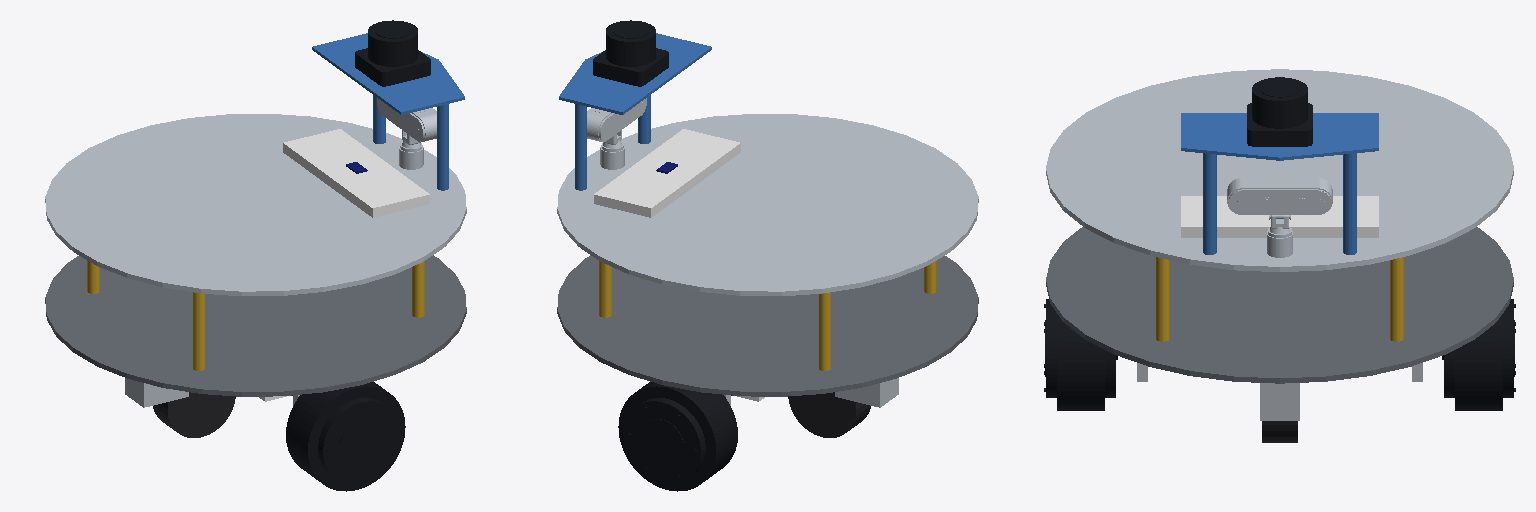
robot.urdf — robot_description:
<?xml version='1.0' encoding='utf-8'?>
<robot name="robot_description">
  <!--Minimal TF for visualization/navigation. Static body and wheels are drawn as base_link geometry; wheel rotation joints are omitted. Sensor and optical frame names/poses are preserved.-->
  <!-- Quy ước: +X trước, +Y trái, +Z lên (REP-103). Đơn vị m / rad.
       Tọa độ trong comment: (x, y, z) theo base_link; [z_fp] = độ cao so với mặt đất (base_footprint).
       base_link nằm cao 0.1135 m so với base_footprint. -->

  <!-- ===== base_footprint: hình chiếu tâm robot xuống mặt đất (z = 0) ===== -->
  <link name="base_footprint" />

  <!-- ===== base_link: tâm mặt dưới tầng đế dưới. Toàn bộ thân, motor, bánh, caster là visual của link này ===== -->
  <link name="base_link">
    <!-- [Tầng dưới] Đế tròn Ø400 dày 5 mm: z 0 → 0.005 [z_fp 0.1135 → 0.1185] -->
    <visual>
      <origin xyz="0 0 0.0025" rpy="0 0 0" />
      <geometry>
        <cylinder radius="0.2" length="0.005" />
      </geometry>
      <material name="chassis_gray">
        <color rgba="0.44 0.46 0.49 1" />
      </material>
    </visual>
    <collision>
      <origin xyz="0 0 0.0025" rpy="0 0 0" />
      <geometry>
        <cylinder radius="0.2" length="0.005" />
      </geometry>
    </collision>
    <!-- [Trụ nối 2 tầng] 4 trụ Ø12 cao 100 mm tại (±0.12, ±0.10), z 0.005 → 0.105 -->
    <!-- Trụ sau-phải (-0.12, -0.10) -->
    <visual>
      <origin xyz="-0.12 -0.1 0.055" rpy="0 0 0" />
      <geometry>
        <cylinder radius="0.006" length="0.1" />
      </geometry>
      <material name="gold">
        <color rgba="0.80 0.65 0.20 1" />
      </material>
    </visual>
    <!-- Trụ sau-trái (-0.12, +0.10) -->
    <visual>
      <origin xyz="-0.12 0.1 0.055" rpy="0 0 0" />
      <geometry>
        <cylinder radius="0.006" length="0.1" />
      </geometry>
      <material name="gold">
        <color rgba="0.80 0.65 0.20 1" />
      </material>
    </visual>
    <!-- Trụ trước-phải (+0.12, -0.10) -->
    <visual>
      <origin xyz="0.12 -0.1 0.055" rpy="0 0 0" />
      <geometry>
        <cylinder radius="0.006" length="0.1" />
      </geometry>
      <material name="gold">
        <color rgba="0.80 0.65 0.20 1" />
      </material>
    </visual>
    <!-- Trụ trước-trái (+0.12, +0.10) -->
    <visual>
      <origin xyz="0.12 0.1 0.055" rpy="0 0 0" />
      <geometry>
        <cylinder radius="0.006" length="0.1" />
      </geometry>
      <material name="gold">
        <color rgba="0.80 0.65 0.20 1" />
      </material>
    </visual>
    <!-- [Tầng trên] Đế tròn Ø400 dày 5 mm: z 0.105 → 0.110 [z_fp 0.2185 → 0.2235] -->
    <visual>
      <origin xyz="0 0 0.1075" rpy="0 0 0" />
      <geometry>
        <cylinder radius="0.2" length="0.005" />
      </geometry>
      <material name="silver">
        <color rgba="0.76 0.79 0.82 1" />
      </material>
    </visual>
    <collision>
      <origin xyz="0 0 0.1075" rpy="0 0 0" />
      <geometry>
        <cylinder radius="0.2" length="0.005" />
      </geometry>
    </collision>
    <!-- [Breadboard] 170×63×10 mm, xoay 90° (cạnh dài theo Y), tâm (0.11, 0, 0.115). IMU gắn trên mặt này -->
    <visual>
      <origin xyz="0.11 0 0.115" rpy="0 0 1.5707963" />
      <geometry>
        <box size="0.17 0.063 0.01" />
      </geometry>
      <material name="white">
        <color rgba="0.94 0.94 0.94 1" />
      </material>
    </visual>
    <!-- [Giá camera] Đáy tại mặt tầng trên (0.17, 0, 0.11), cao 40 mm, đỡ RealSense D435 -->
    <visual>
      <origin xyz="0.17 0 0.11" rpy="0 0 0" />
      <geometry>
        <mesh filename="package://robot_description/meshes/camera_mount_photo.stl" scale="0.001 0.001 0.001" />
      </geometry>
      <material name="silver">
        <color rgba="0.76 0.79 0.82 1" />
      </material>
    </visual>
    <!-- [Tấm LiDAR] 90×170×3 mm, tâm dày z 0.2115 [z_fp 0.325], đỡ RPLIDAR C1 -->
    <visual>
      <origin xyz="0 0 0.2115" rpy="0 0 0" />
      <geometry>
        <mesh filename="package://robot_description/meshes/lidar_plate.stl" scale="0.001 0.001 0.001" />
      </geometry>
      <material name="steel_blue">
        <color rgba="0.28 0.49 0.75 1" />
      </material>
    </visual>
    <!-- [Trụ đỡ tấm LiDAR] 2 trụ Ø12 cao 100 mm tại (0.17, ±0.06), z 0.11 → 0.21 -->
    <!-- Trụ LiDAR phải (0.17, -0.06) -->
    <visual>
      <origin xyz="0.17 -0.06 0.16" rpy="0 0 0" />
      <geometry>
        <cylinder radius="0.006" length="0.1" />
      </geometry>
      <material name="steel_blue">
        <color rgba="0.28 0.49 0.75 1" />
      </material>
    </visual>
    <!-- Trụ LiDAR trái (0.17, +0.06) -->
    <visual>
      <origin xyz="0.17 0.06 0.16" rpy="0 0 0" />
      <geometry>
        <cylinder radius="0.006" length="0.1" />
      </geometry>
      <material name="steel_blue">
        <color rgba="0.28 0.49 0.75 1" />
      </material>
    </visual>

    <!-- ========== BÊN TRÁI (+Y): motor + bánh chủ động trái ========== -->
    <!-- [Motor trái] Khối 110×25×40 mm dưới tầng dưới, tâm (0, 0.10, -0.02) -->
    <visual>
      <origin xyz="0 0.1 -0.02" rpy="0 0 0" />
      <geometry>
        <box size="0.11 0.025 0.04" />
      </geometry>
      <material name="white">
        <color rgba="0.94 0.94 0.94 1" />
      </material>
    </visual>
    <!-- [Tấm gá motor trái] tâm (0, 0.1175, -0.04) -->
    <visual>
      <origin xyz="0 0.1175 -0.04" rpy="0 0 0" />
      <geometry>
        <mesh filename="package://robot_description/meshes/motor_plate.stl" scale="0.001 0.001 0.001" />
      </geometry>
      <material name="silver">
        <color rgba="0.76 0.79 0.82 1" />
      </material>
    </visual>
    <!-- [Bánh chủ động trái] Ø107 rộng 41.5 mm, tâm trục (0, +0.17, -0.06) [z_fp 0.0535 = bán kính bánh] -->
    <visual>
      <origin xyz="0 0.17 -0.06" rpy="0 0 -3.14159261" />
      <geometry>
        <mesh filename="package://robot_description/meshes/drive_wheel.stl" scale="0.001 0.001 0.001" />
      </geometry>
      <material name="dark_black">
        <color rgba="0.13 0.14 0.16 1" />
      </material>
    </visual>
    <collision>
      <origin xyz="0 0.17 -0.06" rpy="1.5707963 0 0" />
      <geometry>
        <cylinder radius="0.0535" length="0.0415" />
      </geometry>
    </collision>

    <!-- ========== BÊN PHẢI (-Y): motor + bánh chủ động phải ========== -->
    <!-- [Motor phải] Khối 110×25×40 mm, tâm (0, -0.10, -0.02) -->
    <visual>
      <origin xyz="0 -0.1 -0.02" rpy="0 0 0" />
      <geometry>
        <box size="0.11 0.025 0.04" />
      </geometry>
      <material name="white">
        <color rgba="0.94 0.94 0.94 1" />
      </material>
    </visual>
    <!-- [Tấm gá motor phải] tâm (0, -0.1175, -0.04) -->
    <visual>
      <origin xyz="0 -0.1175 -0.04" rpy="0 0 0" />
      <geometry>
        <mesh filename="package://robot_description/meshes/motor_plate.stl" scale="0.001 0.001 0.001" />
      </geometry>
      <material name="silver">
        <color rgba="0.76 0.79 0.82 1" />
      </material>
    </visual>
    <!-- [Bánh chủ động phải] Ø107 rộng 41.5 mm, tâm trục (0, -0.17, -0.06) [z_fp 0.0535]. Khoảng cách 2 bánh = 0.34 m -->
    <visual>
      <origin xyz="0 -0.17 -0.06" rpy="0 0 0" />
      <geometry>
        <mesh filename="package://robot_description/meshes/drive_wheel.stl" scale="0.001 0.001 0.001" />
      </geometry>
      <material name="dark_black">
        <color rgba="0.13 0.14 0.16 1" />
      </material>
    </visual>
    <collision>
      <origin xyz="0 -0.17 -0.06" rpy="1.5707963 0 0" />
      <geometry>
        <cylinder radius="0.0535" length="0.0415" />
      </geometry>
    </collision>

    <!-- ========== CASTER TRƯỚC (+X), gắn tại x = +0.12 ========== -->
    <!-- [Caster trước - tấm gá] 55×75×3 mm, (0.12, 0, -0.0015) -->
    <visual>
      <origin xyz="0.12 0 -0.0015" rpy="0 0 0" />
      <geometry>
        <box size="0.055 0.075 0.003" />
      </geometry>
      <material name="silver">
        <color rgba="0.76 0.79 0.82 1" />
      </material>
    </visual>
    <!-- [Caster trước - khớp xoay] (0.12, 0, -0.0085) -->
    <visual>
      <origin xyz="0.12 0 -0.0085" rpy="0 0 0" />
      <geometry>
        <cylinder radius="0.02" length="0.007" />
      </geometry>
      <material name="gold">
        <color rgba="0.80 0.65 0.20 1" />
      </material>
    </visual>
    <!-- [Caster trước - càng] (0.108, 0, -0.0425) -->
    <visual>
      <origin xyz="0.108 0 -0.0425" rpy="0 0 0" />
      <geometry>
        <box size="0.05 0.035 0.048" />
      </geometry>
      <material name="silver">
        <color rgba="0.76 0.79 0.82 1" />
      </material>
    </visual>
    <!-- [Caster trước - bánh] Ø75 rộng 30 mm, tâm (0.068, 0, -0.076) [z_fp 0.0375, chạm đất z_fp 0] -->
    <visual>
      <origin xyz="0.068 0 -0.076" rpy="1.5707963 0 0" />
      <geometry>
        <cylinder radius="0.0375" length="0.03" />
      </geometry>
      <material name="rubber">
        <color rgba="0.20 0.20 0.22 1" />
      </material>
    </visual>
    <collision>
      <origin xyz="0.068 0 -0.076" rpy="1.5707963 0 0" />
      <geometry>
        <cylinder radius="0.0375" length="0.03" />
      </geometry>
    </collision>

    <!-- ========== CASTER SAU (-X), gắn tại x = -0.12 (đối xứng caster trước, xoay 180°) ========== -->
    <!-- [Caster sau - tấm gá] (-0.12, 0, -0.0015) -->
    <visual>
      <origin xyz="-0.12 0 -0.0015" rpy="0 0 -3.14159261" />
      <geometry>
        <box size="0.055 0.075 0.003" />
      </geometry>
      <material name="silver">
        <color rgba="0.76 0.79 0.82 1" />
      </material>
    </visual>
    <!-- [Caster sau - khớp xoay] (-0.12, 0, -0.0085) -->
    <visual>
      <origin xyz="-0.12 0 -0.0085" rpy="0 0 -3.14159261" />
      <geometry>
        <cylinder radius="0.02" length="0.007" />
      </geometry>
      <material name="gold">
        <color rgba="0.80 0.65 0.20 1" />
      </material>
    </visual>
    <!-- [Caster sau - càng] (-0.108, 0, -0.0425) -->
    <visual>
      <origin xyz="-0.108 5.5692248e-10 -0.0425" rpy="0 0 -3.14159261" />
      <geometry>
        <box size="0.05 0.035 0.048" />
      </geometry>
      <material name="silver">
        <color rgba="0.76 0.79 0.82 1" />
      </material>
    </visual>
    <!-- [Caster sau - bánh] Ø75, tâm (-0.068, 0, -0.076) [z_fp 0.0375, chạm đất z_fp 0] -->
    <visual>
      <origin xyz="-0.068 2.41333075e-09 -0.076" rpy="1.5707963 0 -3.14159261" />
      <geometry>
        <cylinder radius="0.0375" length="0.03" />
      </geometry>
      <material name="rubber">
        <color rgba="0.20 0.20 0.22 1" />
      </material>
    </visual>
    <collision>
      <origin xyz="-0.068 2.41333075e-09 -0.076" rpy="1.5707963 0 -3.14159261" />
      <geometry>
        <cylinder radius="0.0375" length="0.03" />
      </geometry>
    </collision>
  </link>

  <!-- ===== TF: base_footprint → base_link, nâng 0.1135 m (chiều cao mặt dưới tầng đế) ===== -->
  <joint name="base_footprint_joint" type="fixed">
    <origin xyz="0 0 0.1135" rpy="0 0 0" />
    <parent link="base_footprint" />
    <child link="base_link" />
  </joint>

  <!-- ===== IMU BNO055: trên breadboard. Frame tại (0.11, 0, 0.1208) theo base_link
       = (0.11, 0, 0.2343) theo base_footprint, không xoay. Chỉ hình board xoay 90° ===== -->
  <link name="imu_link">
    <visual>
      <origin xyz="0 0 0" rpy="0 0 1.5707963" />
      <geometry>
        <box size="0.021 0.012 0.0016" />
      </geometry>
      <material name="imu_blue">
        <color rgba="0.10 0.16 0.46 1" />
      </material>
    </visual>
  </link>
  <joint name="imu_joint" type="fixed">
    <origin xyz="0.11 0 0.1208" rpy="0 0 0" />
    <parent link="base_link" />
    <child link="imu_link" />
  </joint>

  <!-- ===== CAMERA RealSense D435: trên giá camera. camera_link tại (0.17, 0, 0.1625) theo base_link
       = (0.17, 0, 0.276) theo base_footprint, không xoay (X trước). Vị trí = tâm model CAD, chưa hiệu chuẩn ===== -->
  <link name="camera_link">
    <visual>
      <origin xyz="0 0 0" rpy="0 0 0" />
      <geometry>
        <mesh filename="package://robot_description/meshes/camera_d435.stl" scale="0.001 0.001 0.001" />
      </geometry>
      <material name="silver">
        <color rgba="0.76 0.79 0.82 1" />
      </material>
    </visual>
    <collision>
      <origin xyz="0 0 0" rpy="0 0 0" />
      <geometry>
        <box size="0.025 0.09 0.025" />
      </geometry>
    </collision>
  </link>
  <joint name="camera_joint" type="fixed">
    <origin xyz="0.17 0 0.1625" rpy="0 0 0" />
    <parent link="base_link" />
    <child link="camera_link" />
  </joint>
  <!-- Optical frame (chuẩn ROS): Z trước, X phải, Y xuống → rpy (-π/2, 0, -π/2) so với camera_link -->
  <link name="camera_color_optical_frame" />
  <joint name="camera_color_optical_frame_joint" type="fixed">
    <origin xyz="0 0 0" rpy="-1.5707963 0 -1.5707963" />
    <parent link="camera_link" />
    <child link="camera_color_optical_frame" />
  </joint>
  <link name="camera_depth_optical_frame" />
  <joint name="camera_depth_optical_frame_joint" type="fixed">
    <origin xyz="0 0 0" rpy="-1.5707963 0 -1.5707963" />
    <parent link="camera_link" />
    <child link="camera_depth_optical_frame" />
  </joint>

  <!-- ===== LiDAR RPLIDAR C1: trên tấm LiDAR. lidar_link tại (0.15, 0, 0.23365) theo base_link
       = (0.15, 0, 0.34715) theo base_footprint, không xoay: cùng hướng base_footprint (X trước, Y trái, Z lên).
       Driver sllidar_ros2 phát /scan_raw với góc 0 hướng ra SAU robot (đã kiểm tra thực tế); node
       stage2_slam/scan_rotate xoay dữ liệu pi -> /scan trong laser_frame, nên TF không cần yaw π. ===== -->
  <link name="lidar_link">
    <visual>
      <origin xyz="0 0 0" rpy="0 0 0" />
      <geometry>
        <mesh filename="package://robot_description/meshes/rplidar.stl" scale="0.001 0.001 0.001" />
      </geometry>
      <material name="dark_black">
        <color rgba="0.13 0.14 0.16 1" />
      </material>
    </visual>
    <collision>
      <origin xyz="0 0 0" rpy="0 0 0" />
      <geometry>
        <cylinder radius="0.0278" length="0.0418" />
      </geometry>
    </collision>
  </link>
  <joint name="lidar_joint" type="fixed">
    <origin xyz="0.15 0 0.23365" rpy="0 0 0" />
    <parent link="base_link" />
    <child link="lidar_link" />
  </joint>
  <!-- laser_frame: frame_id của /scan (do scan_rotate đặt), trùng hoàn toàn với lidar_link (identity).
       slam_toolbox/AMCL/laser_filters tra TF theo frame_id của scan. -->
  <link name="laser_frame" />
  <joint name="laser_joint" type="fixed">
    <origin xyz="0 0 0" rpy="0 0 0" />
    <parent link="lidar_link" />
    <child link="laser_frame" />
  </joint>
</robot>

--- Render facts (derived) ---
3 views of the same robot in one strip: view 1: azimuth 30°, elevation 25°; view 2: azimuth 150°, elevation 25°; view 3: azimuth 270°, elevation 25° (orthographic).
Model robot_description with 8 links and 7 joints (7 fixed), rooted at base_footprint, posed all joints at 0.
Visible links, largest first — view 1: base_link, lidar_link, camera_link; view 2: base_link, lidar_link, camera_link; view 3: base_link, lidar_link, camera_link.
Boxes of the visible links, x1=… form: base_link: x1=45, y1=33, x2=466, y2=491; lidar_link: x1=355, y1=20, x2=430, y2=86; camera_link: x1=377, y1=98, x2=436, y2=141; base_link: x1=557, y1=33, x2=978, y2=491; lidar_link: x1=593, y1=20, x2=668, y2=86; camera_link: x1=587, y1=98, x2=646, y2=141; base_link: x1=1044, y1=69, x2=1515, y2=442; lidar_link: x1=1247, y1=77, x2=1312, y2=146; camera_link: x1=1227, y1=178, x2=1332, y2=214.
Bounding box of the posed robot: 0.4 × 0.4024 × 0.3684 m (x, y, z).
Meshes: 6 distinct files referenced, 8 mesh visuals loaded (6 binary STL).
